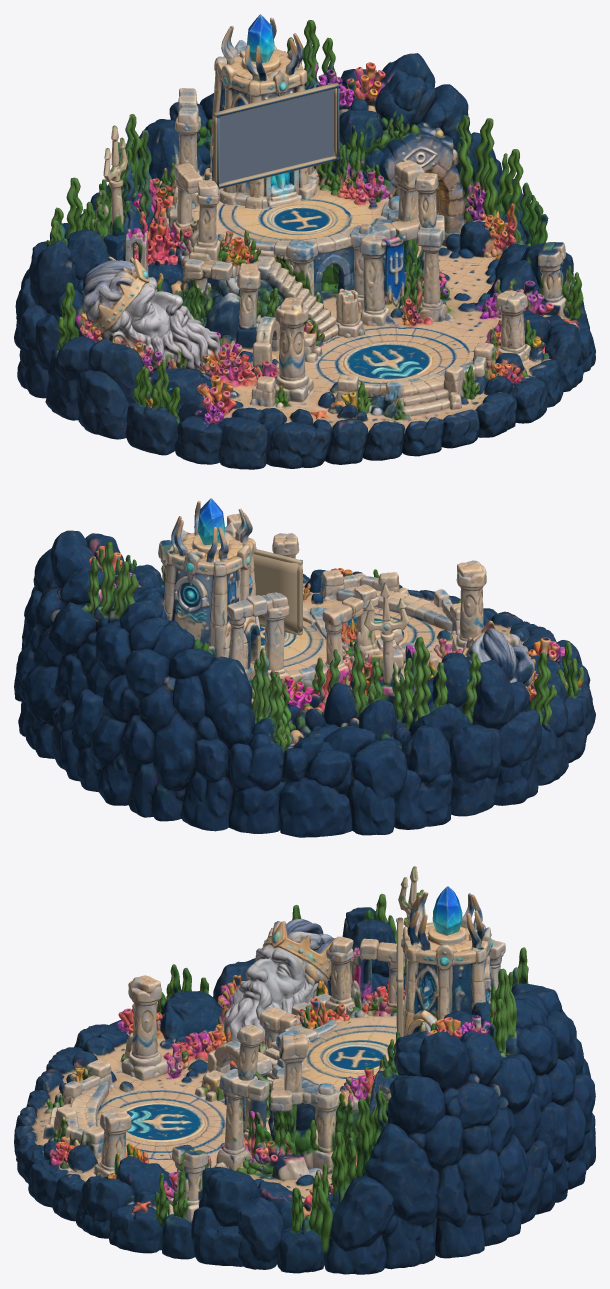
File: Atlantis_A_screen.delitL1.glb
The picture shows the model from 3 angles, top to bottom: view 1: azimuth 30°, elevation 25°; view 2: azimuth 150°, elevation 25°; view 3: azimuth 270°, elevation 25°; orthographic projection. The views are drawn at different scales.
Visible parts, largest first — view 1: atlantis, kfb_screen_slot, kfb_screen_frame; view 2: atlantis, kfb_screen_frame; view 3: atlantis, kfb_screen_frame.
Part boxes in pixels (box(x1,y1,x2,y2)): atlantis: box(14, 14, 595, 469); kfb_screen_slot: box(219, 89, 334, 183); kfb_screen_frame: box(213, 83, 339, 189); atlantis: box(14, 498, 595, 837); kfb_screen_frame: box(187, 532, 302, 635); atlantis: box(14, 866, 595, 1274); kfb_screen_frame: box(396, 917, 403, 1036).
Size of the model in its own units: 1.9 by 0.9751 by 1.85.
4 materials, 1 textured.
